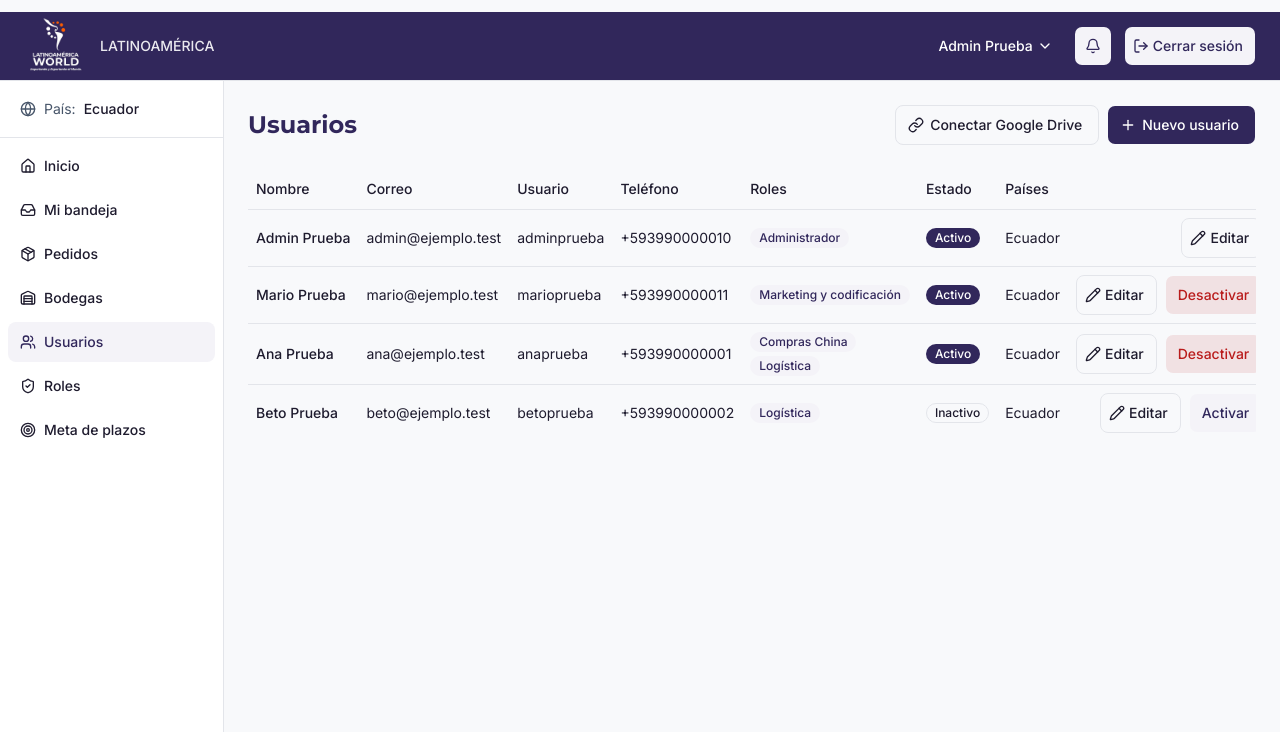
Test: Conexión con Google Drive desde Usuarios › con la integración apagada (404) lo explica y no navega
Click the button "Conectar Google Drive" at (997, 125), box [895,105,1099,145]
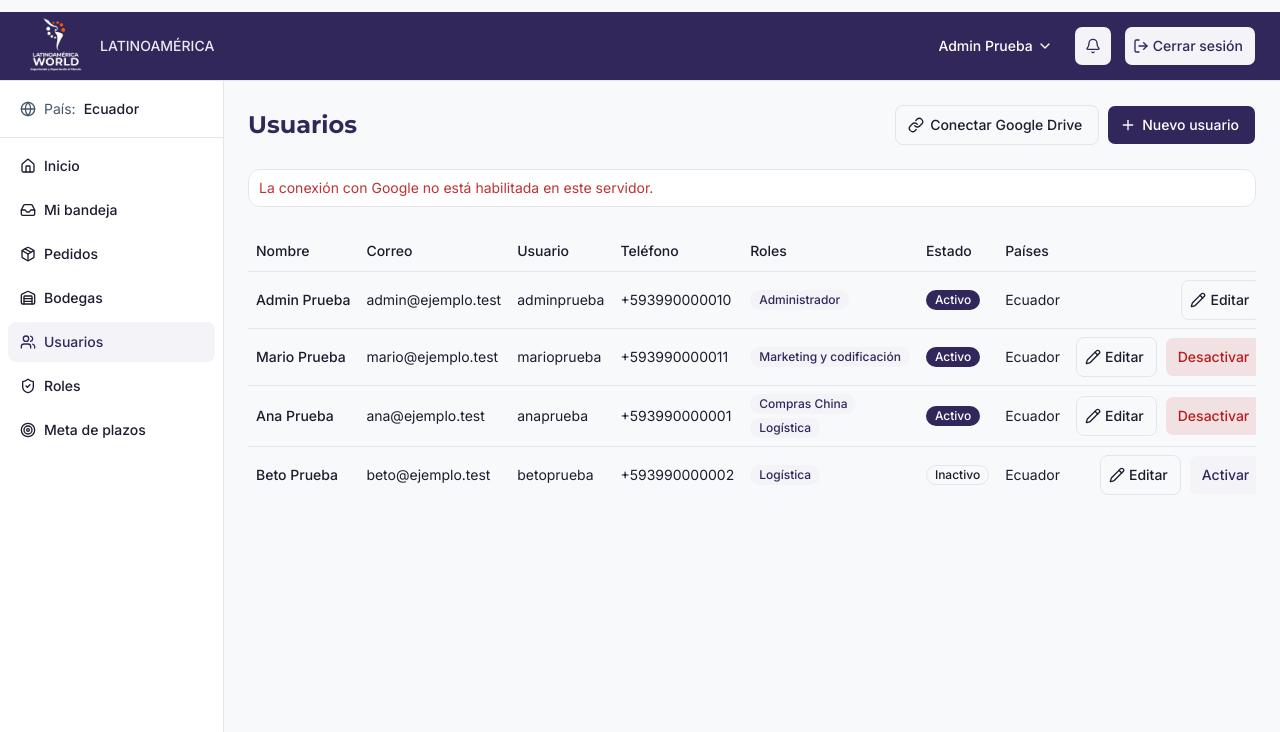
Expected: the text "La conexión con Google no está habilitada en este servidor." is shown, [259,179,653,196]
